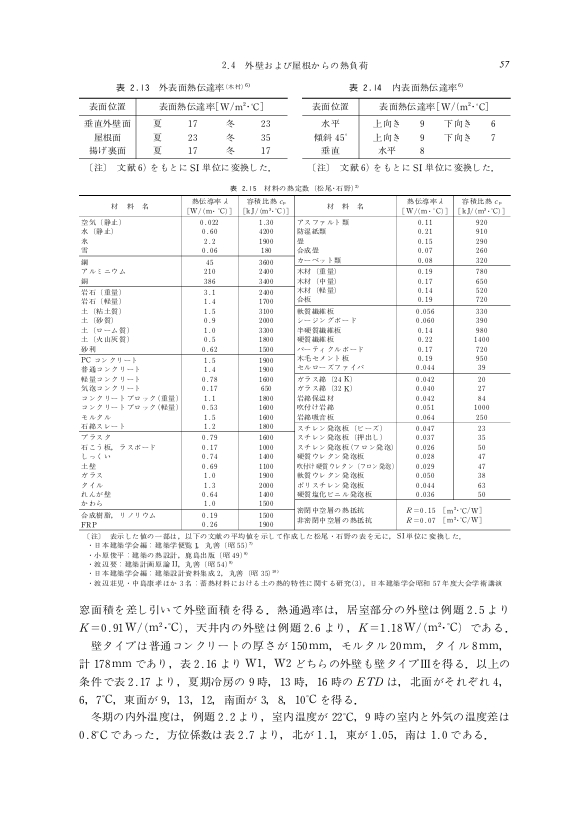table: (78, 194, 509, 531), (77, 97, 287, 159), (301, 97, 510, 159)
